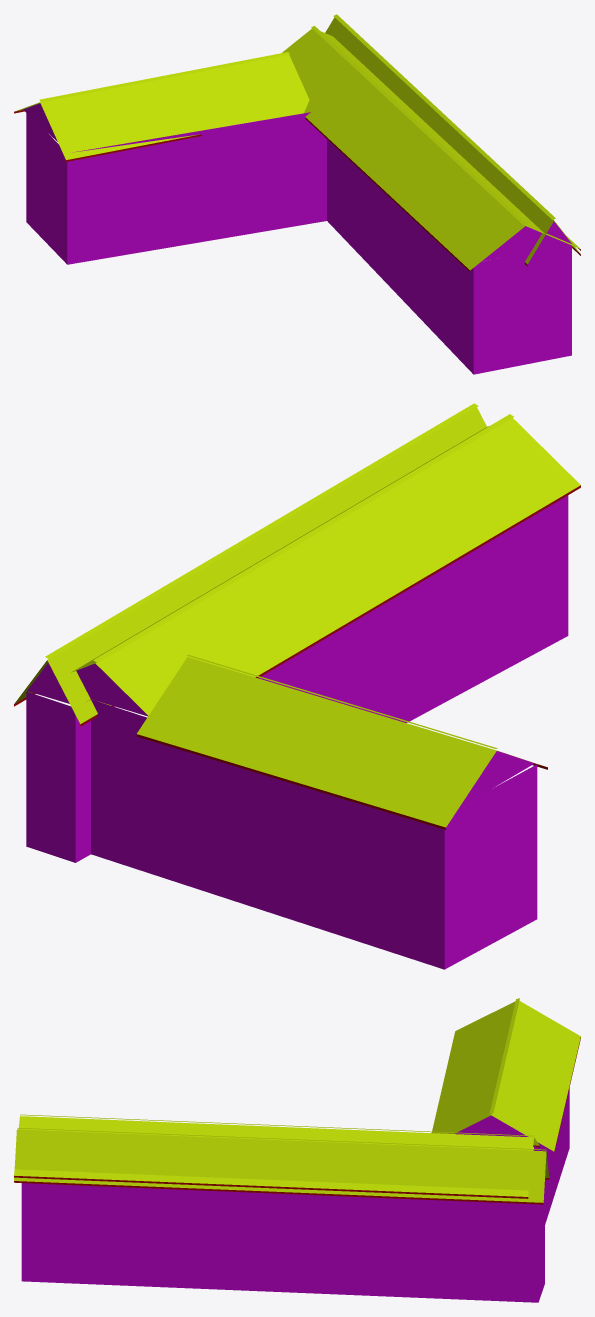
File: rmc_182.glb
3 views of the same model, one above another, from view 1: azimuth 30°, elevation 25°; view 2: azimuth 150°, elevation 25°; view 3: azimuth 270°, elevation 25° (orthographic). The views are drawn at different scales.
Parts seen in each view (by area): view 1: rmc_182; view 2: rmc_182; view 3: rmc_182.
Part boxes in pixels (x1=…): rmc_182: x1=14, y1=14, x2=580, y2=374; rmc_182: x1=14, y1=403, x2=580, y2=969; rmc_182: x1=14, y1=998, x2=580, y2=1302.
Size of the model in its own units: 23.57 by 9.51 by 33.95.
